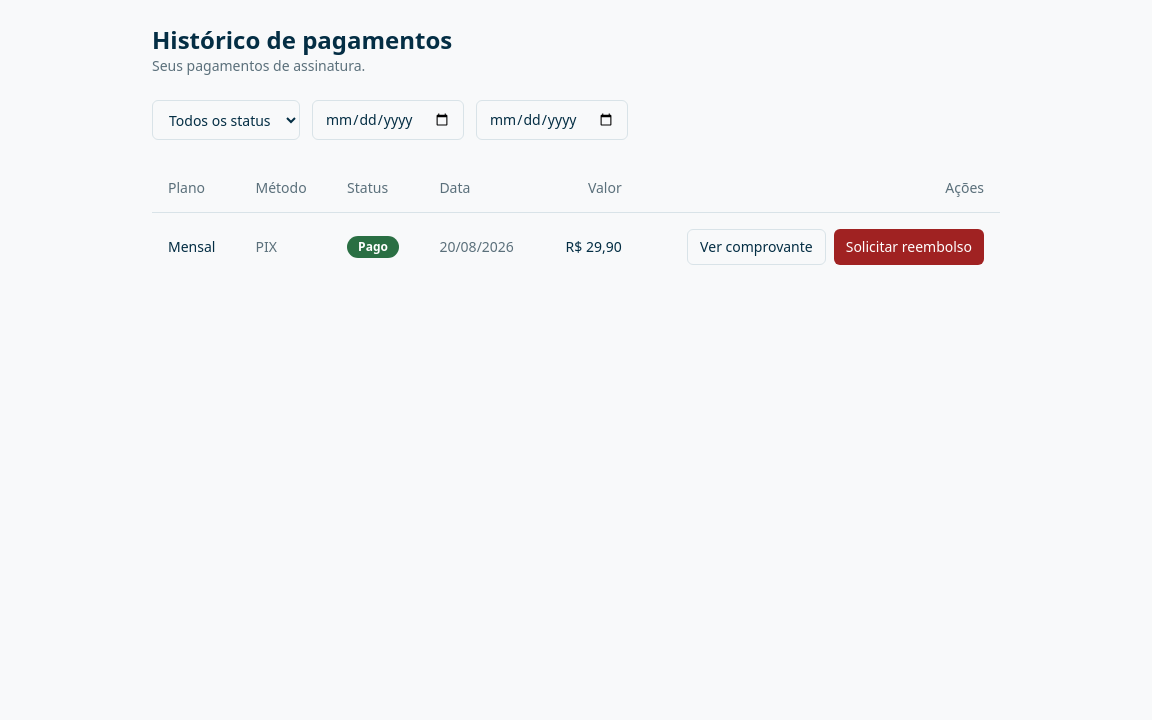
Scenario: PaymentsHistoryPage › mostra o prazo de devolução do PIX, que é diferente do cartão
This screenshot has width=1152, height=720.
Click the button "Solicitar reembolso".
click(909, 246)  # box [834,228,984,264]
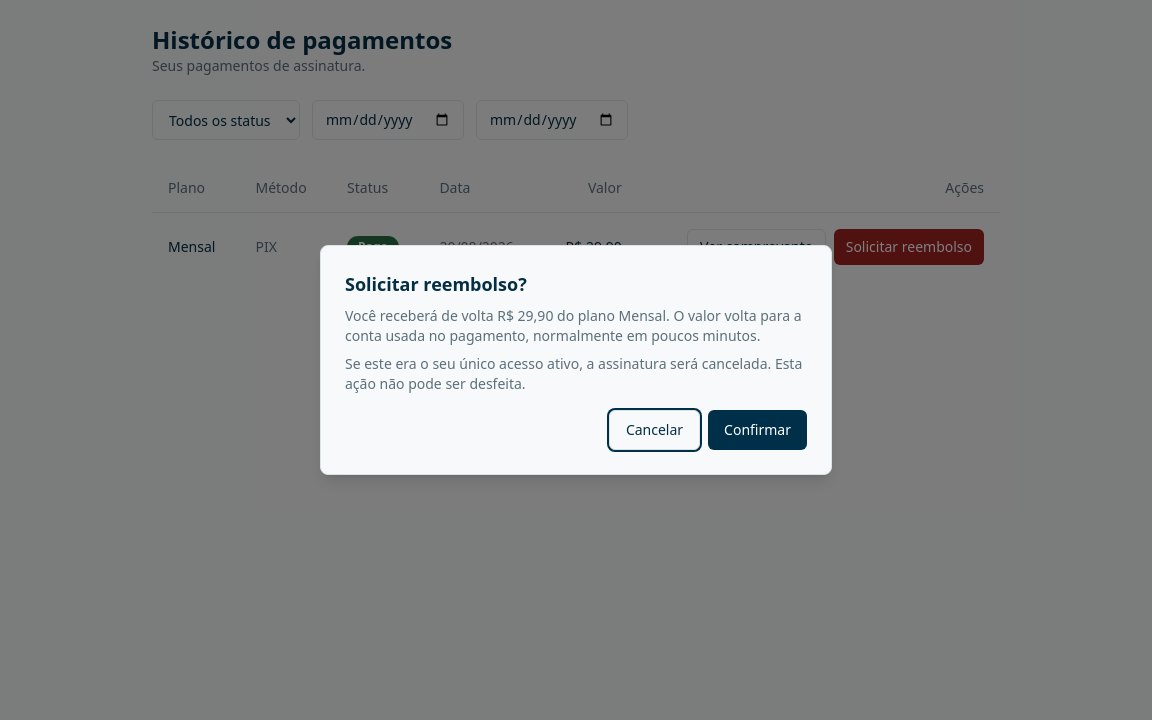
Check: the text "normalmente em poucos minutos" is shown, box [345,306,802,345]
